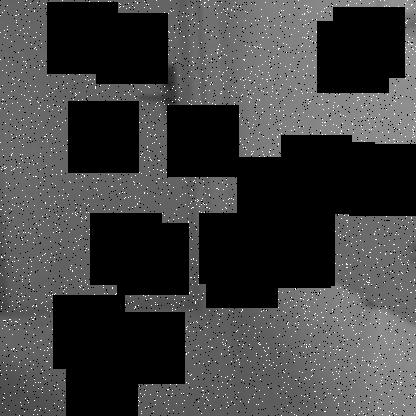Porte: (2, 0, 219, 326)
